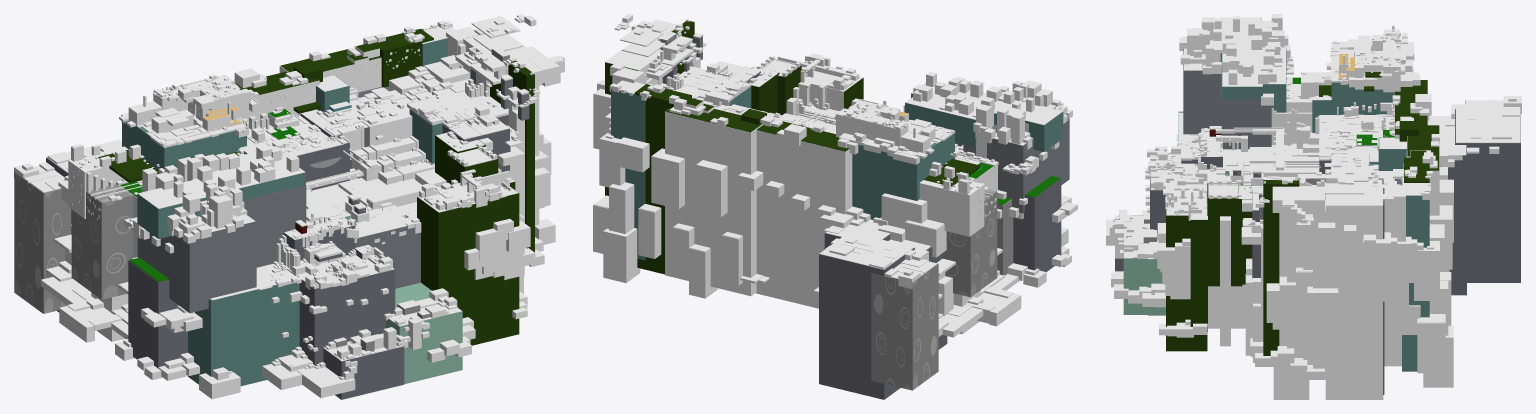
File: CubesParentFinalLevel4.fbx
The picture shows the model from 3 angles, left to right: view 1: azimuth 30°, elevation 25°; view 2: azimuth 150°, elevation 25°; view 3: azimuth 270°, elevation 25°; orthographic projection. The views are drawn at different scales.
Visible parts, largest first — view 1: Cube_Ref_Clone__2559, Cube_Ref_Clone__200, Cube_Ref_Clone__1538, Cube_Ref_Clone__2709; view 2: Cube_Ref_Clone__200, Cube_Ref_Clone__1538, Cube_Ref_Clone__2559, Cube_Ref_Clone__2709; view 3: Cube_Ref_Clone__200, Cube_Ref_Clone__1538, Cube_Ref_Clone__2559, Cube_Ref_Clone__2709.
Part boxes in pixels (box(x1,y1,x2,y2)): Cube_Ref_Clone__2559: box(115, 144, 475, 399); Cube_Ref_Clone__200: box(245, 14, 564, 345); Cube_Ref_Clone__1538: box(14, 71, 319, 342); Cube_Ref_Clone__2709: box(191, 68, 436, 267); Cube_Ref_Clone__200: box(593, 14, 863, 308); Cube_Ref_Clone__1538: box(757, 98, 1021, 399); Cube_Ref_Clone__2559: box(830, 68, 1077, 287); Cube_Ref_Clone__2709: box(776, 72, 1007, 210); Cube_Ref_Clone__200: box(1128, 80, 1453, 399); Cube_Ref_Clone__1538: box(1286, 25, 1521, 295); Cube_Ref_Clone__2559: box(1106, 14, 1331, 315); Cube_Ref_Clone__2709: box(1216, 43, 1431, 185).
Size of the model in its own units: 46497 by 25898 by 38250.
